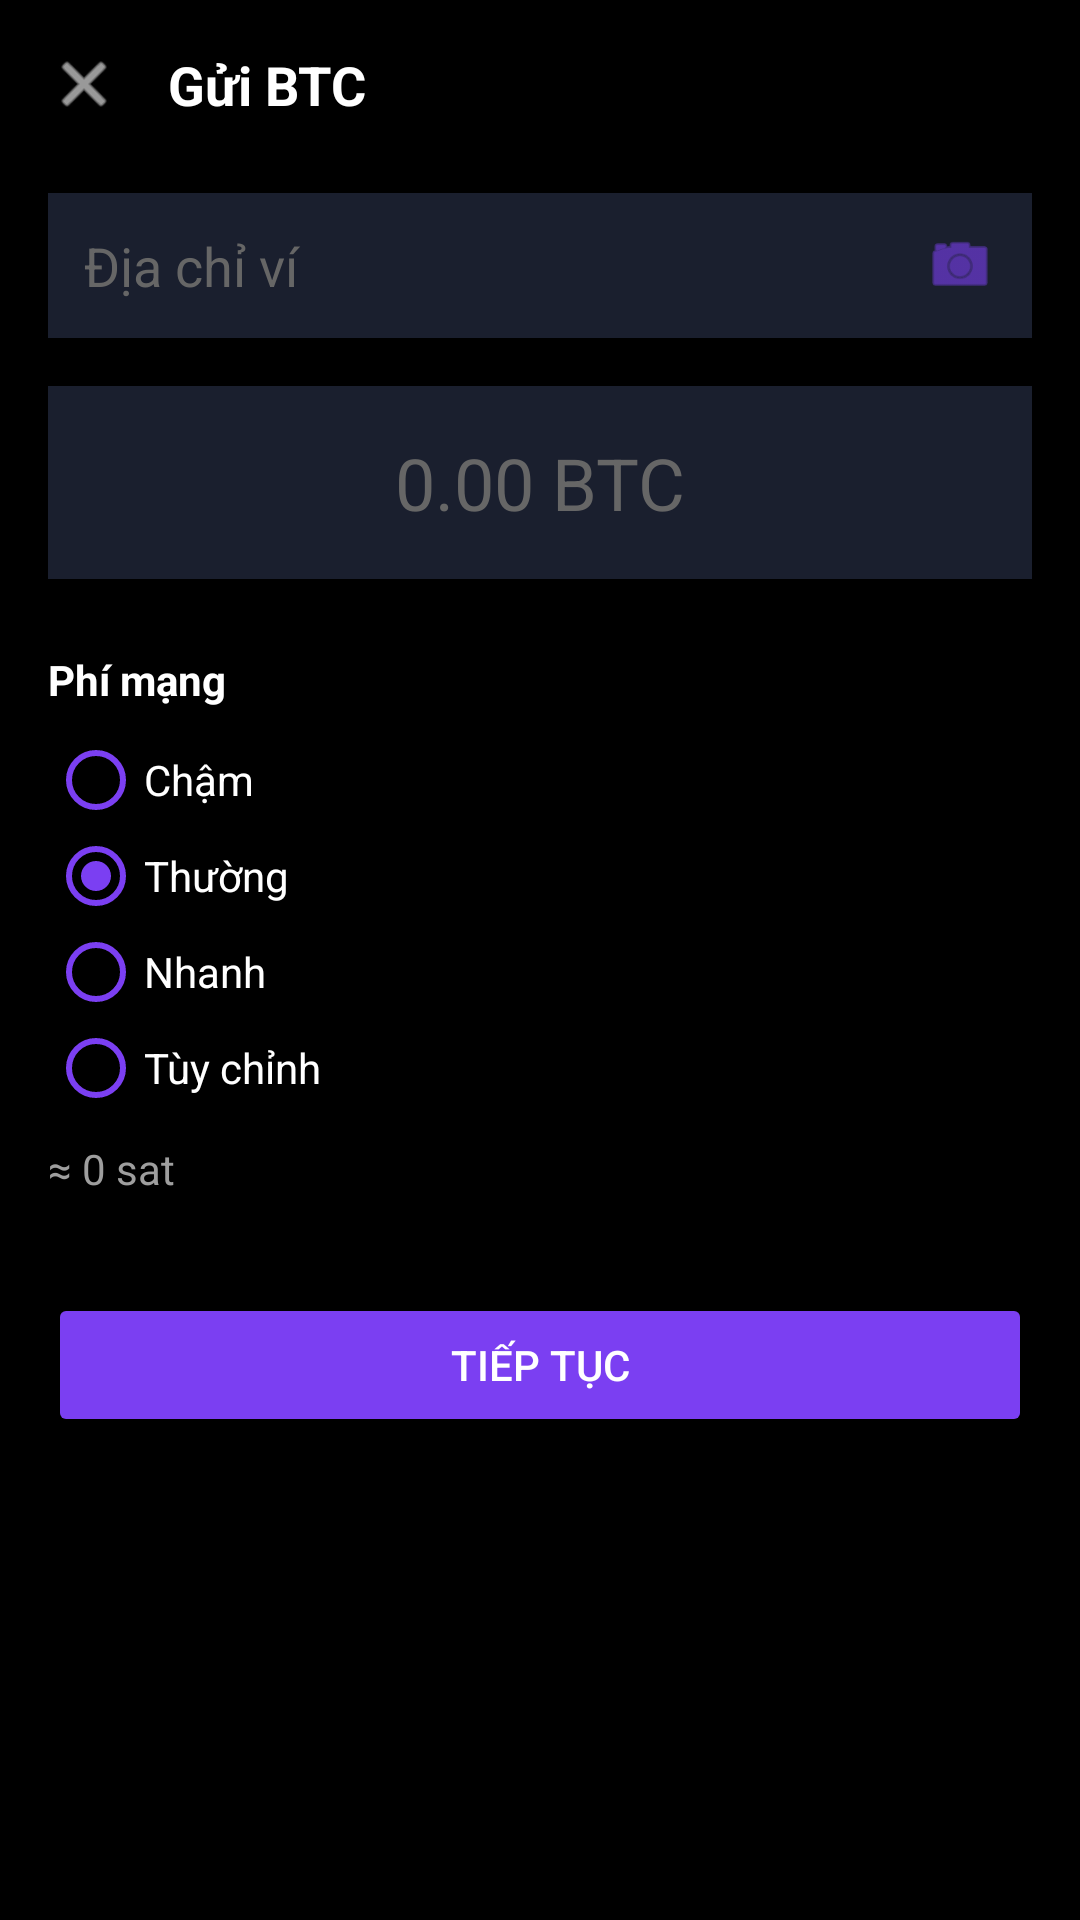

Icons on this 1080px x 1920px Android screen, each with its box as (x1, y1, x2, y2):
camera: (932, 242, 988, 286)
close clear cancel: (61, 61, 107, 107)
